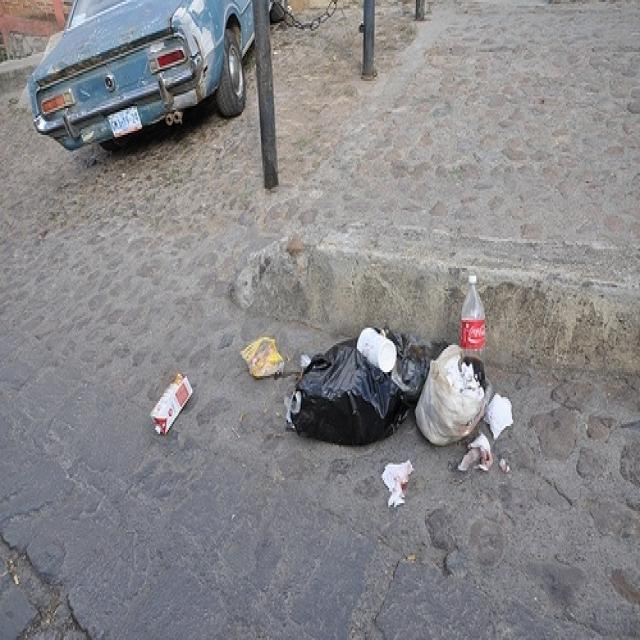Metal: (32, 0, 250, 152)
Plastics: (458, 267, 498, 376)
